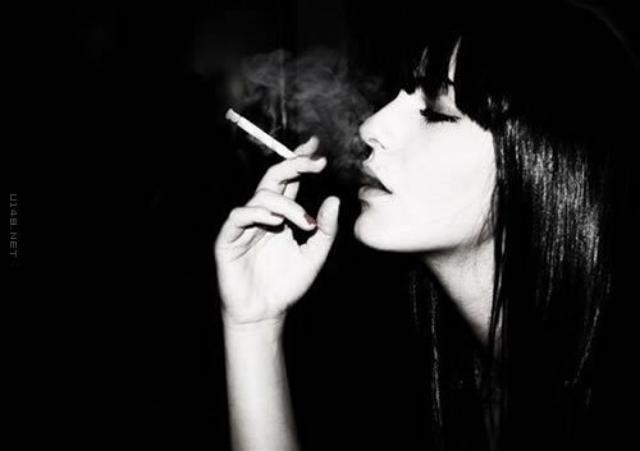Smoking: (220, 107, 296, 159)
